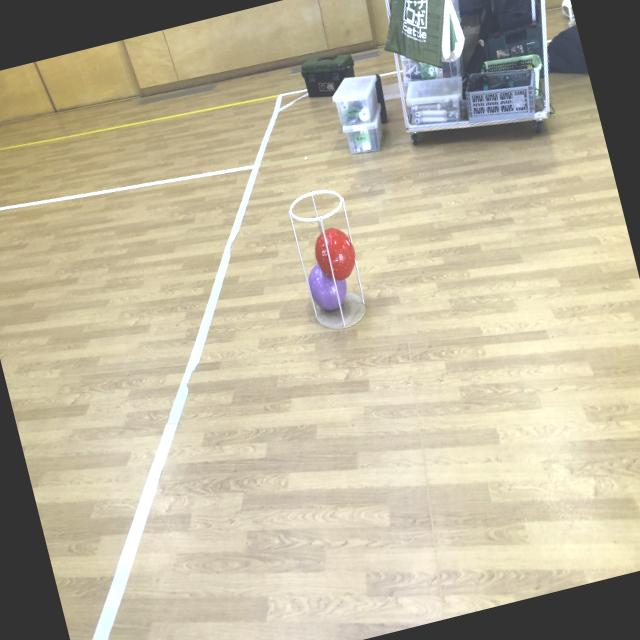purple_ball: (304, 258, 351, 314)
red_ball: (311, 223, 358, 281)
